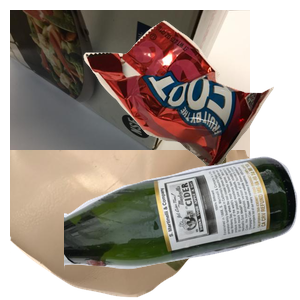cardboard: (10, 10, 250, 190)
glass: (64, 154, 300, 300)
plastic: (10, 150, 250, 300)
trash: (81, 18, 300, 182)
